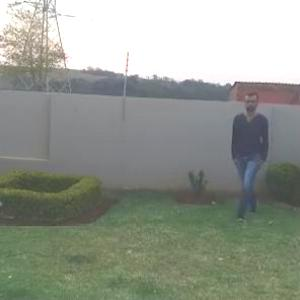follow: (220, 95, 269, 205)
